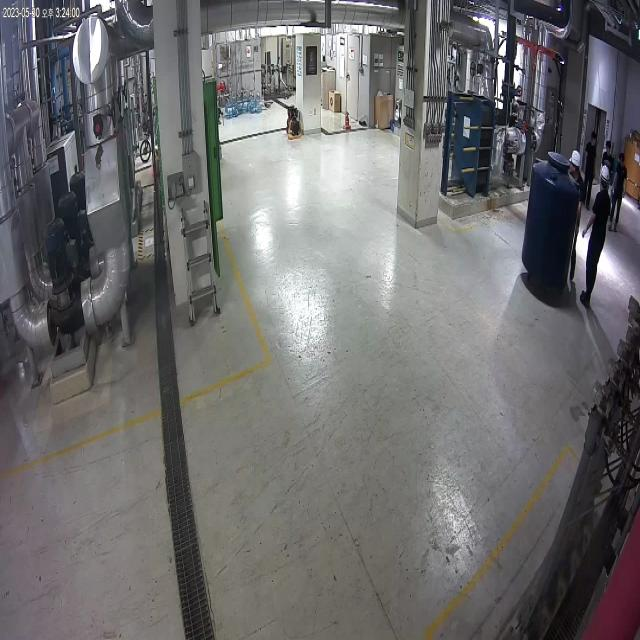Water Tank: (519, 147, 581, 295)
worker: (578, 162, 617, 317), (567, 140, 589, 292)
